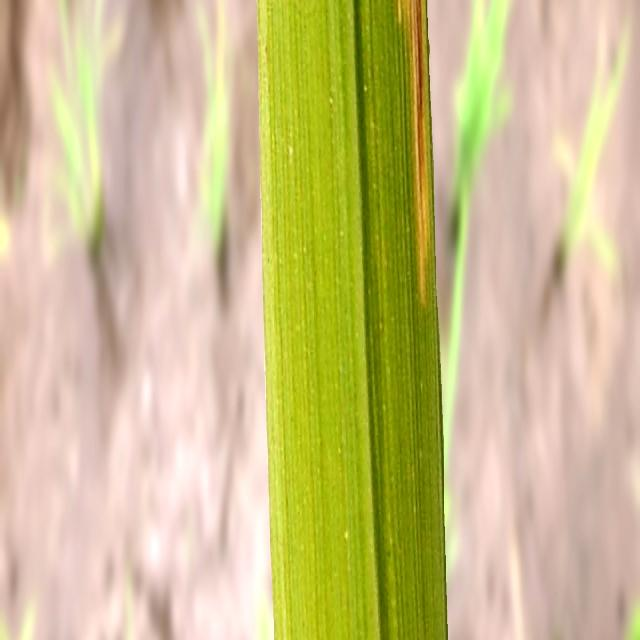BLS: (406, 0, 428, 298)
